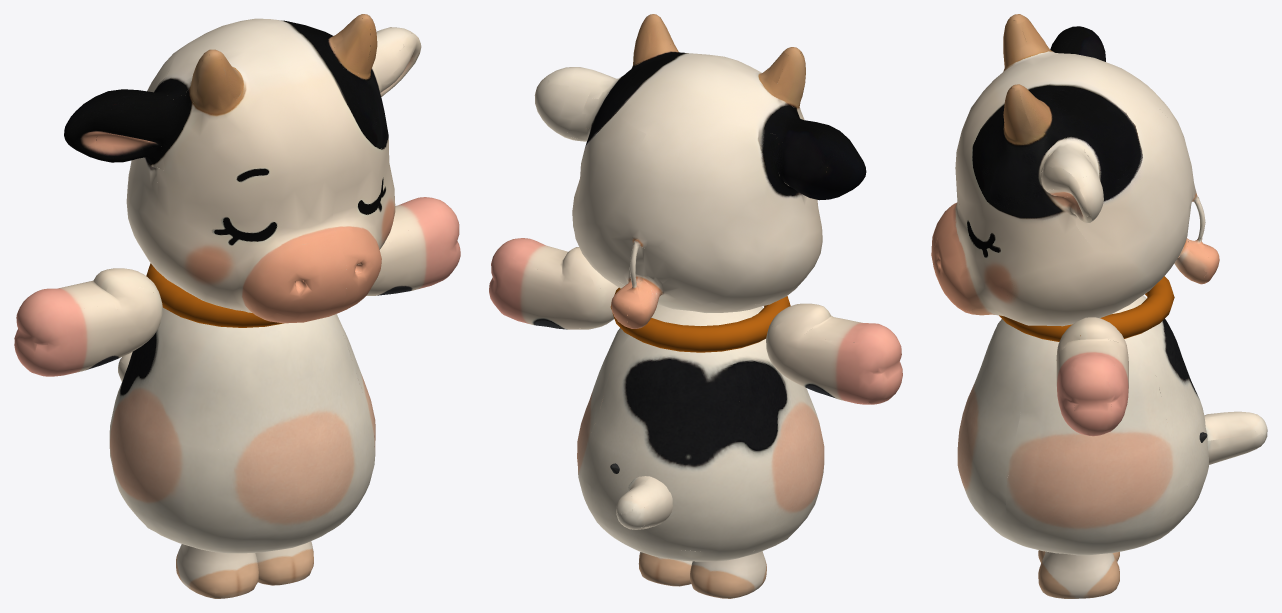
File: una-the-cow.obj
3 renders of one model, left to right at view 1: azimuth 30°, elevation 25°; view 2: azimuth 150°, elevation 25°; view 3: azimuth 270°, elevation 25°, orthographic. The views are drawn at different scales.
Parts seen in each view (by area): view 1: head_geo, body_geo, arm_r_geo, arm_l_geo, leg_r_geo, neckwear_geo, leg_l_geo; view 2: head_geo, body_geo, arm_r_geo, arm_l_geo, neckwear_geo, leg_r_geo, tail_geo, leg_l_geo; view 3: head_geo, body_geo, arm_l_geo, leg_l_geo, neckwear_geo, tail_geo.
Boxes of the visible parts, x1,y1,x2,y2 form: head_geo: (64, 14, 421, 323); body_geo: (109, 307, 375, 553); arm_r_geo: (14, 268, 162, 376); arm_l_geo: (366, 197, 460, 295); leg_r_geo: (176, 544, 258, 598); neckwear_geo: (146, 263, 283, 327); leg_l_geo: (255, 541, 313, 585); head_geo: (534, 14, 866, 328); body_geo: (577, 304, 824, 561); arm_r_geo: (766, 303, 902, 404); arm_l_geo: (489, 238, 618, 329); neckwear_geo: (610, 287, 790, 352); leg_r_geo: (690, 551, 766, 598); tail_geo: (610, 463, 672, 529); leg_l_geo: (638, 552, 692, 586); head_geo: (931, 14, 1219, 326); body_geo: (957, 295, 1208, 555); arm_l_geo: (1056, 317, 1128, 436); leg_l_geo: (1038, 551, 1119, 598); neckwear_geo: (999, 276, 1174, 341); tail_geo: (1199, 411, 1267, 464).
Bounding box in the file's own units: 0.6975 × 0.8652 × 0.4961.
Materials: 8 (7 with a texture image).
